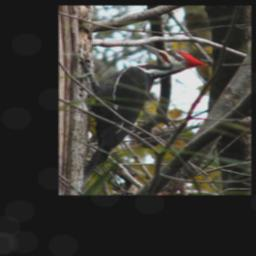Woodpecker: (75, 43, 207, 181)
